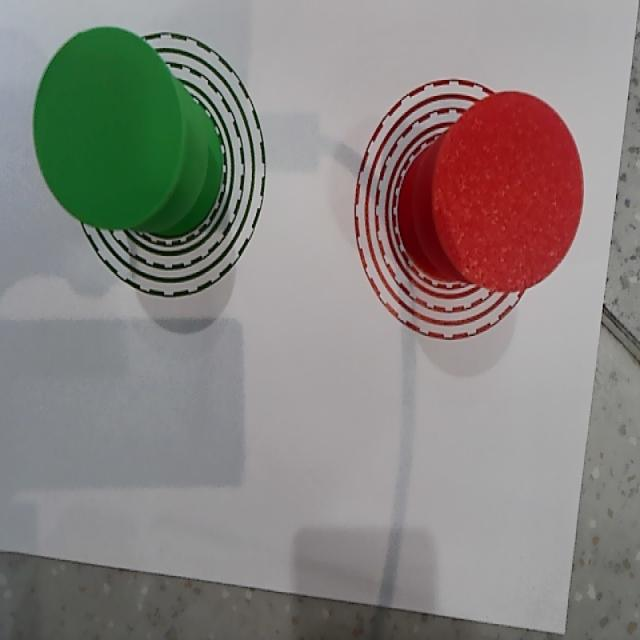g: (35, 26, 182, 229)
r: (432, 92, 584, 289)
